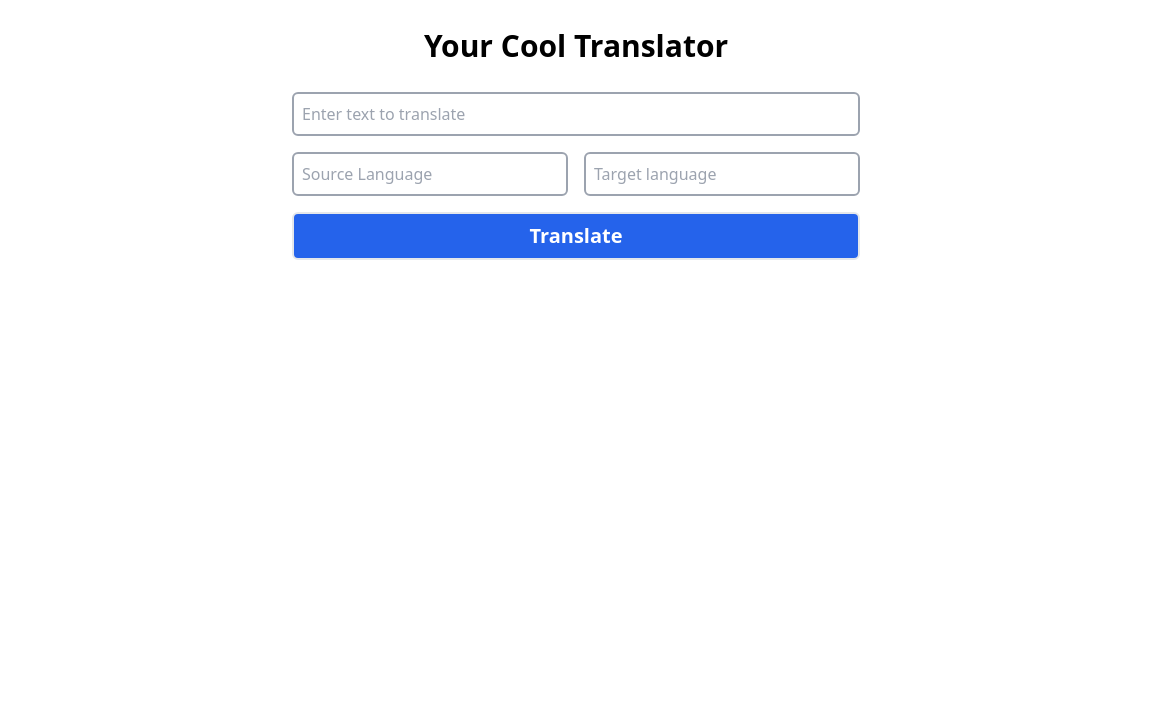
Test: Translator › displays loading state during API request
Click the button "Translate".
click(576, 236)  # box [292,212,860,260]
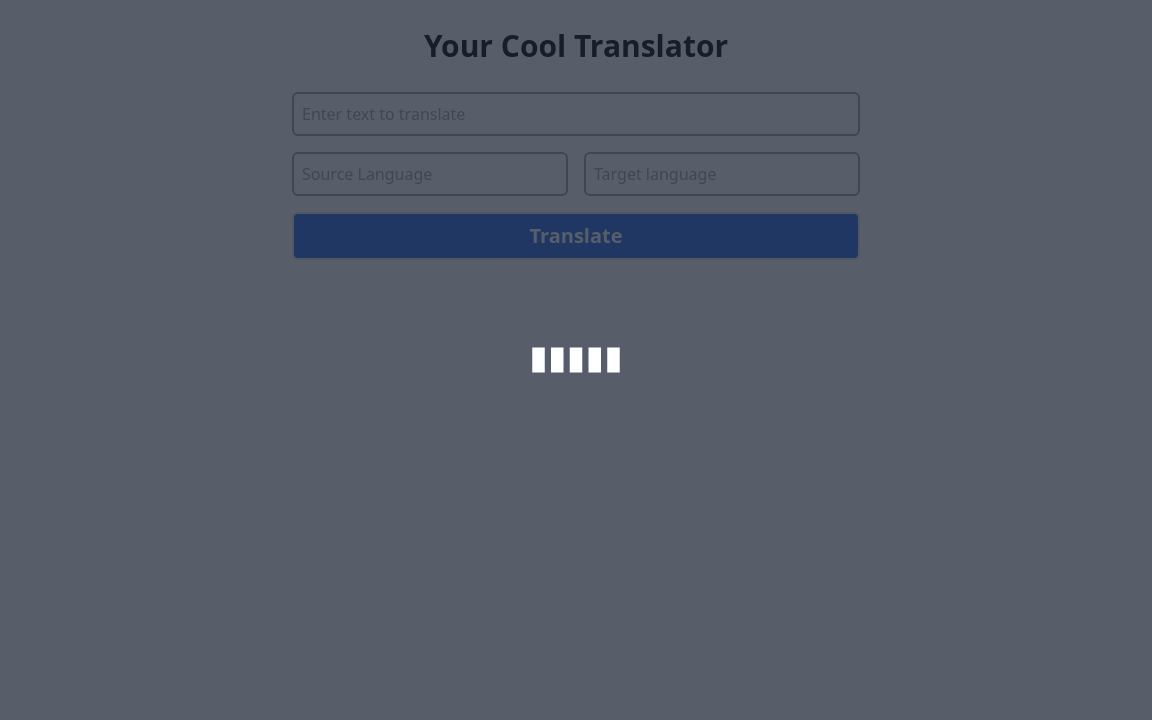
Now the element with test id "loading-element" is shown
